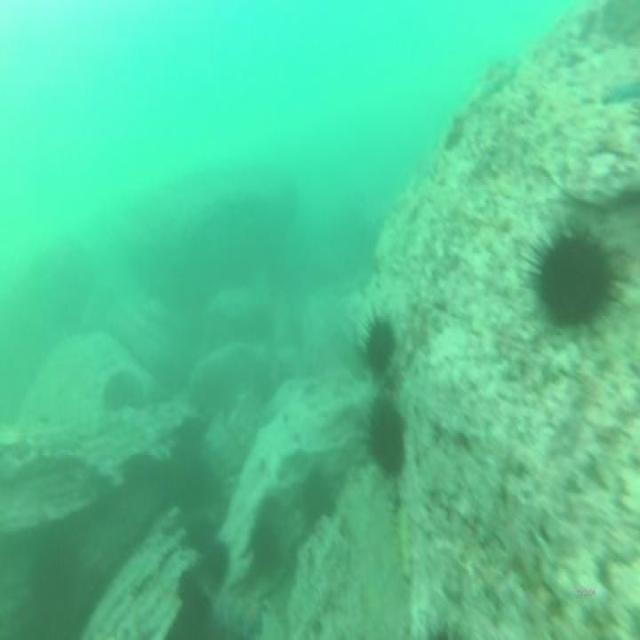echinus: (522, 221, 632, 335), (366, 392, 410, 482), (356, 311, 398, 378), (246, 517, 283, 580), (298, 468, 338, 526), (102, 368, 147, 414), (174, 564, 207, 621), (201, 539, 233, 597), (183, 512, 215, 555)
holothurian: (393, 493, 417, 589)
starfish: (235, 591, 269, 640)
